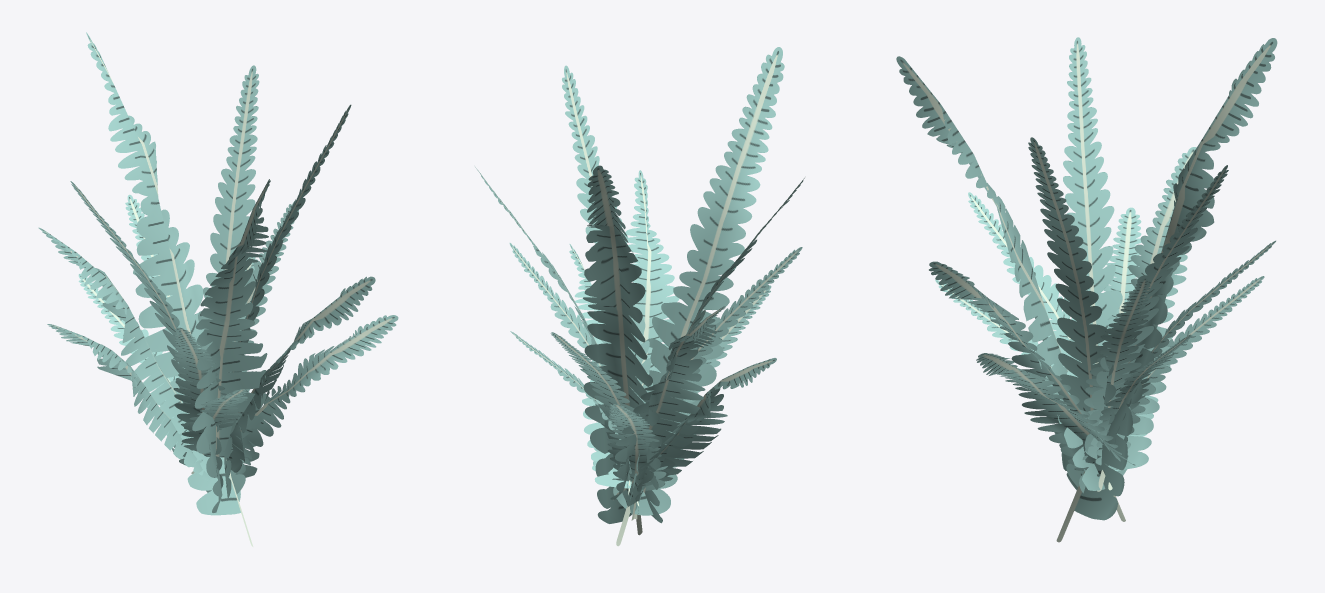
Rendered from fern03.fbx.
3 views of the same model, side by side, from view 1: azimuth 30°, elevation 25°; view 2: azimuth 150°, elevation 25°; view 3: azimuth 270°, elevation 25° (orthographic). The views are drawn at different scales.
Visible parts, largest first — view 1: pPlane29, pPlane25, pPlane28, pPlane11, pPlane32, pPlane13, pPlane31, pPlane26, pPlane27, pPlane10, pPlane30, pPlane14 (+2 smaller); view 2: pPlane25, pPlane29, pPlane11, pPlane13, pPlane31, pPlane26, pPlane10, pPlane34, pPlane12, pPlane32, pPlane14, pPlane30 (+3 smaller); view 3: pPlane29, pPlane26, pPlane27, pPlane25, pPlane32, pPlane11, pPlane13, pPlane28, pPlane14, pPlane34, pPlane10, pPlane31 (+3 smaller).
Part boxes in pixels (<box>): pPlane29: <box>86,32,253,546</box>; pPlane25: <box>192,179,270,512</box>; pPlane28: <box>198,65,259,494</box>; pPlane11: <box>38,227,207,475</box>; pPlane32: <box>191,315,398,473</box>; pPlane13: <box>227,276,375,472</box>; pPlane31: <box>47,324,212,481</box>; pPlane26: <box>224,104,351,499</box>; pPlane27: <box>70,181,223,488</box>; pPlane10: <box>173,327,226,431</box>; pPlane30: <box>179,389,249,464</box>; pPlane14: <box>234,200,298,390</box>; pPlane25: <box>616,47,784,546</box>; pPlane29: <box>582,165,662,535</box>; pPlane11: <box>610,306,725,499</box>; pPlane13: <box>593,170,679,494</box>; pPlane31: <box>613,358,776,507</box>; pPlane26: <box>562,65,652,518</box>; pPlane10: <box>643,247,802,483</box>; pPlane34: <box>607,404,661,489</box>; pPlane12: <box>550,332,647,476</box>; pPlane32: <box>569,244,638,505</box>; pPlane14: <box>509,243,624,479</box>; pPlane30: <box>643,285,771,492</box>; pPlane29: <box>1056,38,1277,542</box>; pPlane26: <box>1028,137,1115,486</box>; pPlane27: <box>1063,37,1126,475</box>; pPlane25: <box>896,56,1125,521</box>; pPlane32: <box>976,353,1135,470</box>; pPlane11: <box>1097,147,1196,491</box>; pPlane13: <box>929,261,1120,461</box>; pPlane28: <box>1079,165,1228,493</box>; pPlane14: <box>1084,278,1151,459</box>; pPlane34: <box>1124,276,1264,442</box>; pPlane10: <box>968,192,1081,377</box>; pPlane31: <box>1100,207,1158,490</box>.
Bounding box in the file's own units: 1.04 × 1.5 × 1.21.
